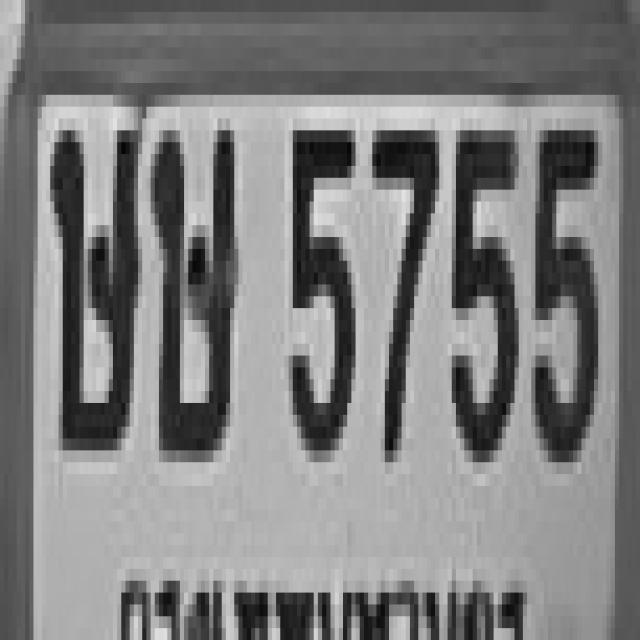48SorRueSi: (46, 118, 138, 450), (151, 118, 234, 450)
5: (284, 118, 352, 450), (527, 118, 594, 450), (448, 118, 514, 450)
7: (368, 118, 435, 450)
